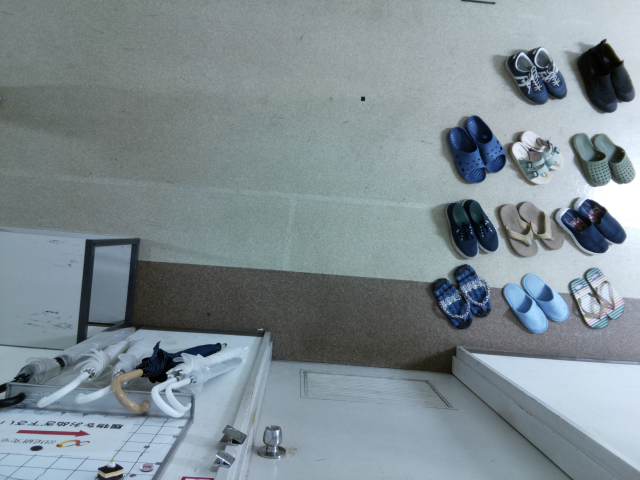Copy of Copy of Copy of Copy of Copy of Copy of Copy of sandal: (433, 277, 473, 329)
Copy of Copy of Copy of Copy of Copy of Copy of Copy of shoes: (504, 51, 548, 104)
Copy of Copy of Copy of Copy of Copy of Copy of sandal: (454, 264, 492, 317)
Copy of Copy of Copy of Copy of Copy of Copy of shoes: (526, 46, 567, 99)
Copy of Copy of Copy of Copy of Copy of sandal: (500, 202, 538, 257)
Copy of Copy of Copy of Copy of Copy of shoes: (594, 41, 635, 101)
Copy of Copy of Copy of Copy of Copy of slipper: (464, 114, 506, 172)
Copy of Copy of Copy of Copy of sandal: (518, 200, 565, 249)
Copy of Copy of Copy of Copy of shoes: (577, 51, 617, 113)
Copy of Copy of Copy of Copy of slipper: (448, 126, 487, 183)
Copy of Copy of Copy of sandal: (584, 267, 624, 320)
Copy of Copy of Copy of shoes: (573, 196, 627, 244)
Copy of Copy of Copy of slipper: (521, 272, 570, 323)
Copy of Copy of sandal: (570, 277, 609, 329)
Copy of Copy of shoes: (556, 206, 610, 254)
Copy of Copy of slipper: (503, 283, 547, 332)
Copy of sandal: (520, 130, 563, 171)
Copy of shoes: (461, 198, 499, 254)
Copy of slipper: (592, 133, 635, 184)
sandal: (510, 142, 551, 185)
shoes: (445, 202, 479, 258)
slipper: (572, 132, 611, 187)
